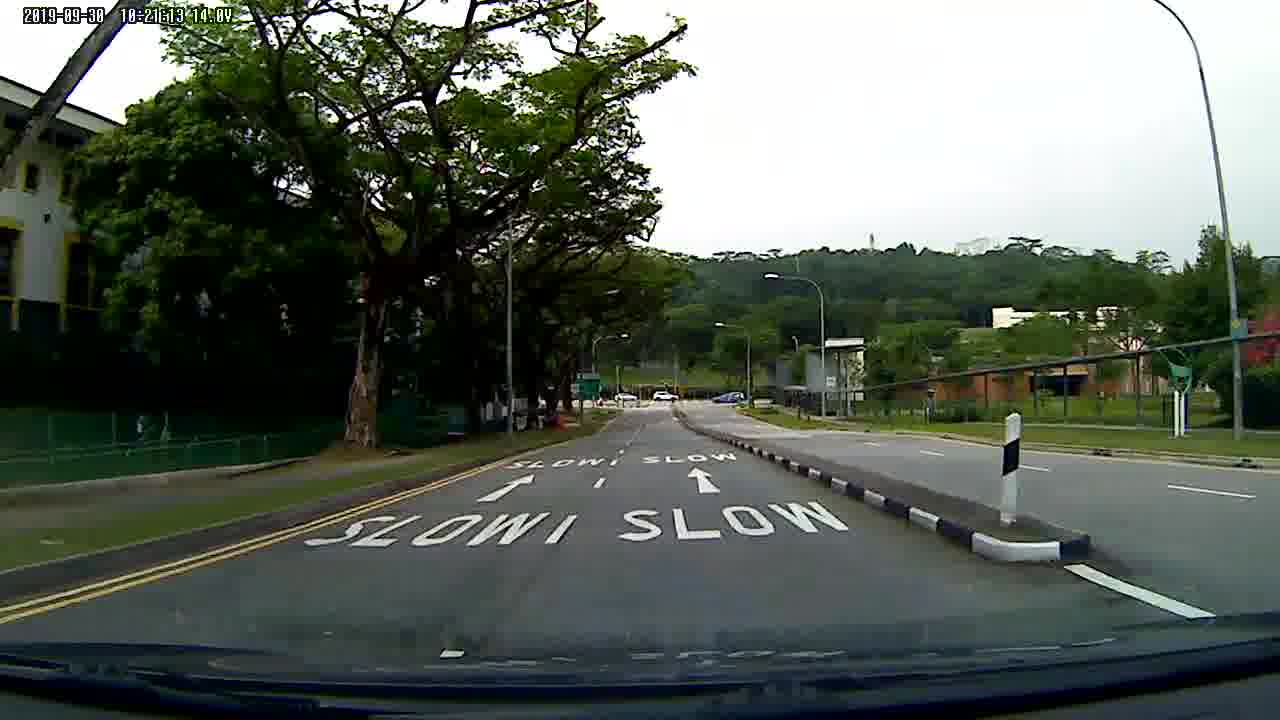car: (711, 390, 747, 404), (652, 388, 679, 403), (613, 390, 639, 401)
